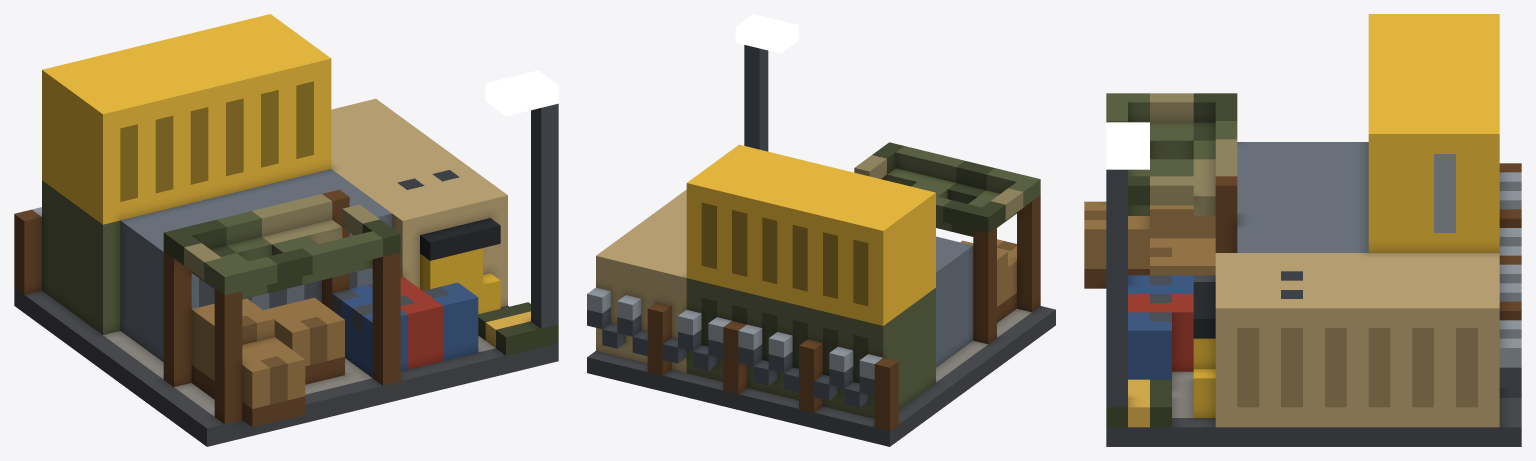
The model's file is cm_depot_2.glb.
3 renders of one model, left to right at view 1: azimuth 30°, elevation 25°; view 2: azimuth 150°, elevation 25°; view 3: azimuth 270°, elevation 25°, orthographic. The views are drawn at different scales.
Visible parts, largest first — view 1: cm_depot_2_body; view 2: cm_depot_2_body; view 3: cm_depot_2_body.
Part boxes in pixels (x1,y1,x2,y2): cm_depot_2_body: (14, 14, 558, 446); cm_depot_2_body: (587, 14, 1055, 446); cm_depot_2_body: (1084, 14, 1521, 446).
Size of the model in its own units: 1.25 by 0.9375 by 1.25.
Materials: 1 (1 with a texture image).
